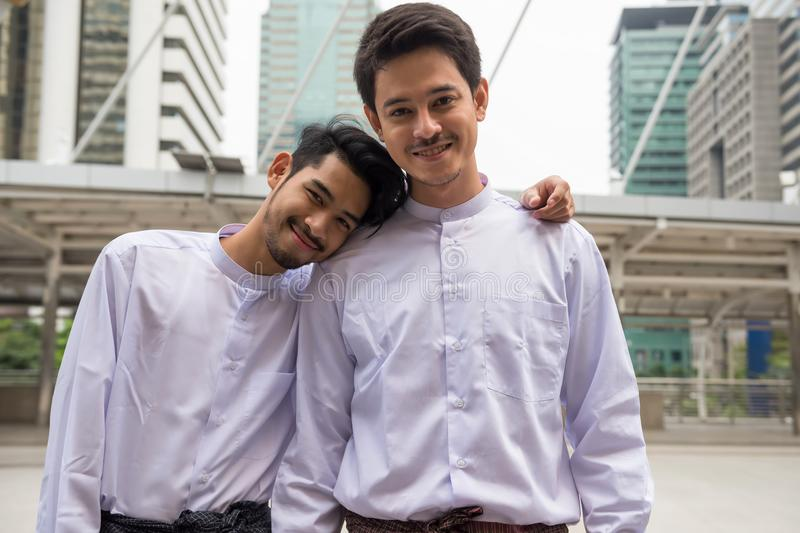bare: (384, 116, 485, 187), (261, 203, 332, 266)
